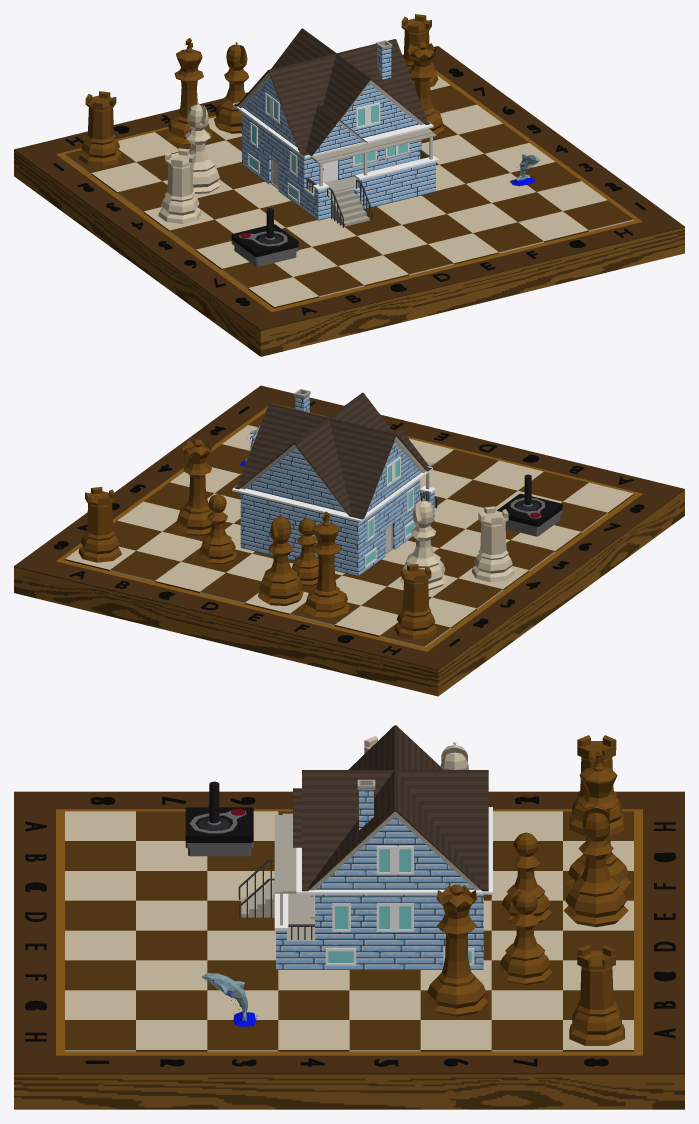
The picture shows the model from 3 angles, top to bottom: view 1: azimuth 30°, elevation 25°; view 2: azimuth 150°, elevation 25°; view 3: azimuth 270°, elevation 25°; orthographic projection. The views are drawn at different scales.
Parts seen in each view (by area): view 1: Cube.002, Cube.547, OBJRANDOM_JOYSTICK; view 2: Cube.002, Cube.547, OBJRANDOM_JOYSTICK; view 3: Cube.002, Cube.547, OBJRANDOM_JOYSTICK, ANIMAL_DELFIN.
Part boxes in pixels (bbox=[...]): Cube.002: bbox=[14, 14, 684, 356]; Cube.547: bbox=[232, 28, 438, 227]; OBJRANDOM_JOYSTICK: bbox=[231, 208, 298, 266]; Cube.002: bbox=[14, 385, 684, 696]; Cube.547: bbox=[232, 389, 437, 576]; OBJRANDOM_JOYSTICK: bbox=[496, 474, 562, 536]; Cube.002: bbox=[14, 735, 684, 1109]; Cube.547: bbox=[238, 725, 492, 969]; OBJRANDOM_JOYSTICK: bbox=[185, 781, 253, 856]; ANIMAL_DELFIN: bbox=[202, 973, 257, 1027].
Size of the model in its own units: 3981 by 1500 by 4012.
Materials: 29 (3 with a texture image).
